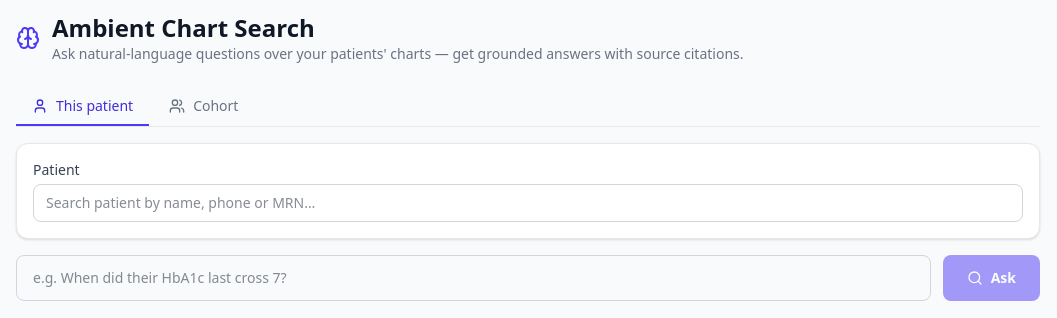
Test: Ambient Chart Search dashboard page › cohort tab: typing a query enables Ask without needing a patient
The image size is (1057, 318).
Click the tab "Cohort" at (204, 107), box [153,88,254,126]
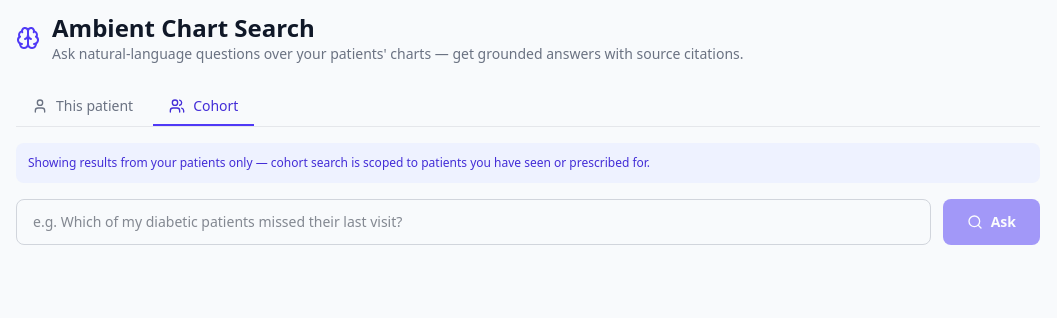
Type "Who missed visits?" into the field with placeholder "e.g. Which of my diabetic patients missed their last visit?" at (473, 222), box [16,199,931,245]
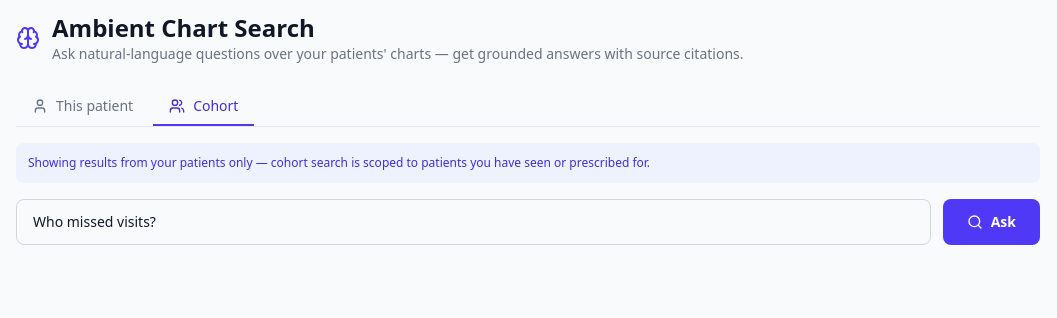
Expected: the button "Ask" is enabled, [943,199,1040,245]
